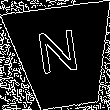N_S: (38, 29, 87, 85)
